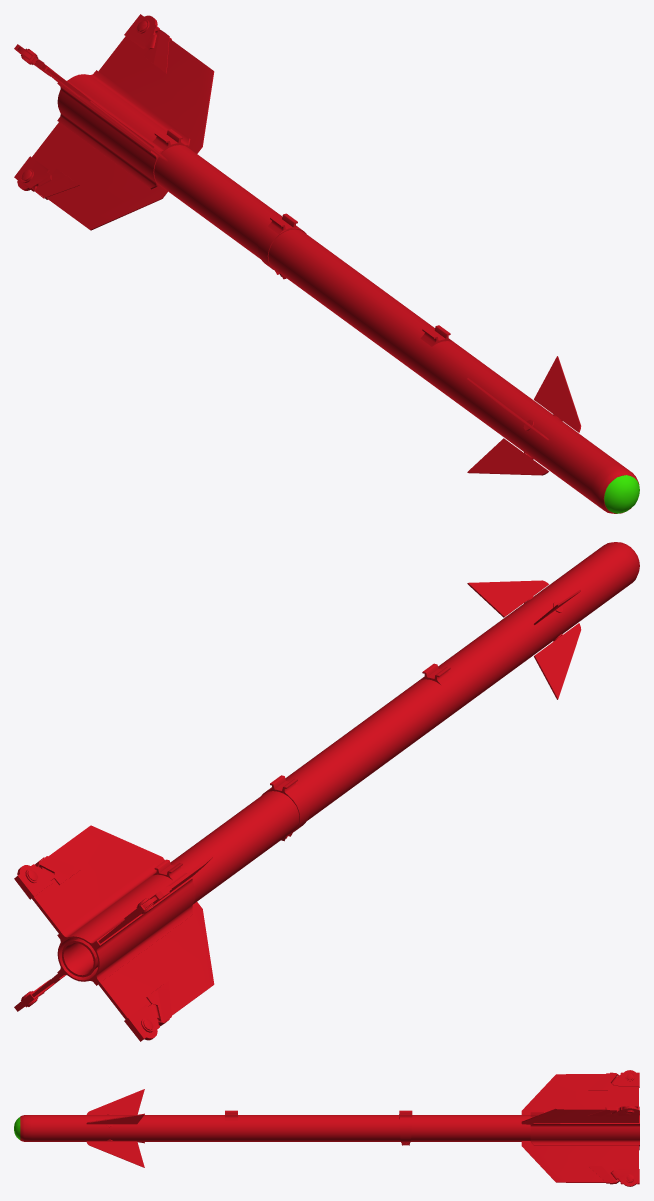
Rendered from Sidewinder.FBX.
3 renders of one model, top to bottom at view 1: azimuth 30°, elevation 25°; view 2: azimuth 150°, elevation 25°; view 3: azimuth 270°, elevation 25°, orthographic. The views are drawn at different scales.
Parts seen in each view (by area): view 1: sidewinder; view 2: sidewinder; view 3: sidewinder.
Part boxes in pixels (x1,y1,x2,y2): sidewinder: (14,14,639,513); sidewinder: (14,542,639,1041); sidewinder: (14,1070,639,1186).
Size of the model in its own units: 40.2 by 40.2 by 283.
